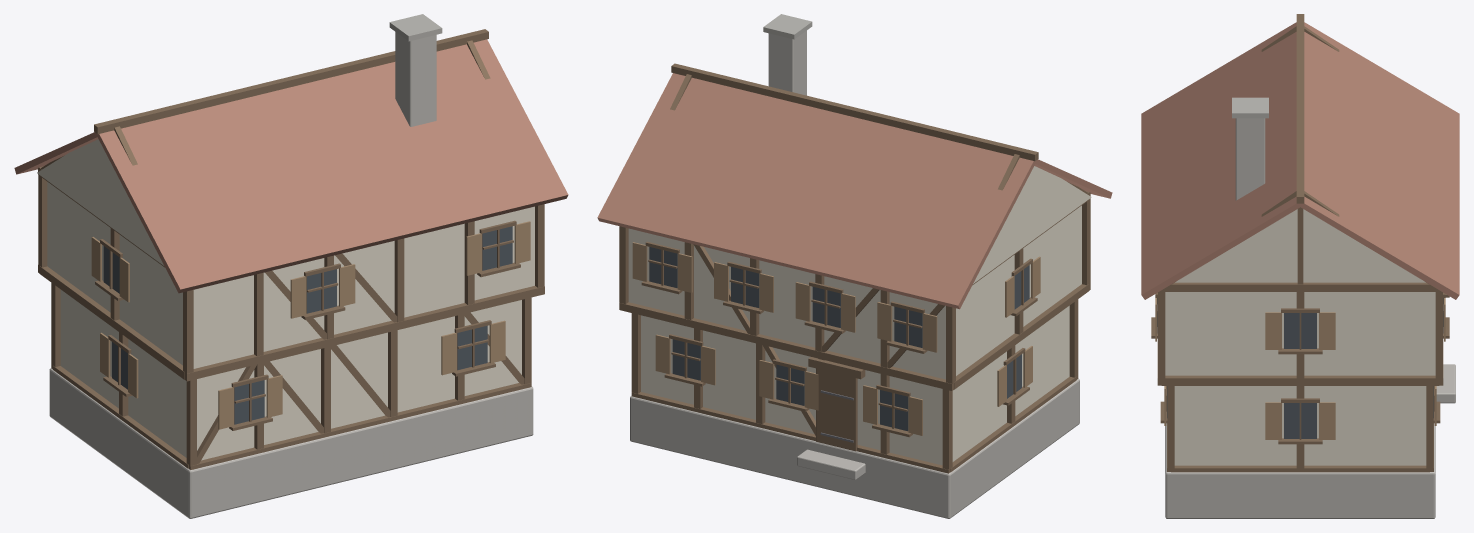
Rendered from house_b.glb.
3 views of the same model, side by side, from view 1: azimuth 30°, elevation 25°; view 2: azimuth 150°, elevation 25°; view 3: azimuth 270°, elevation 25° (orthographic). The views are drawn at different scales.
Parts seen in each view (by area): view 1: house_b; view 2: house_b; view 3: house_b.
Part boxes in pixels (<box>): house_b: <box>14,14,568,518</box>; house_b: <box>597,14,1112,518</box>; house_b: <box>1141,14,1459,518</box>.
Bounding box in the file's own units: 11.7 × 11.32 × 8.6.
